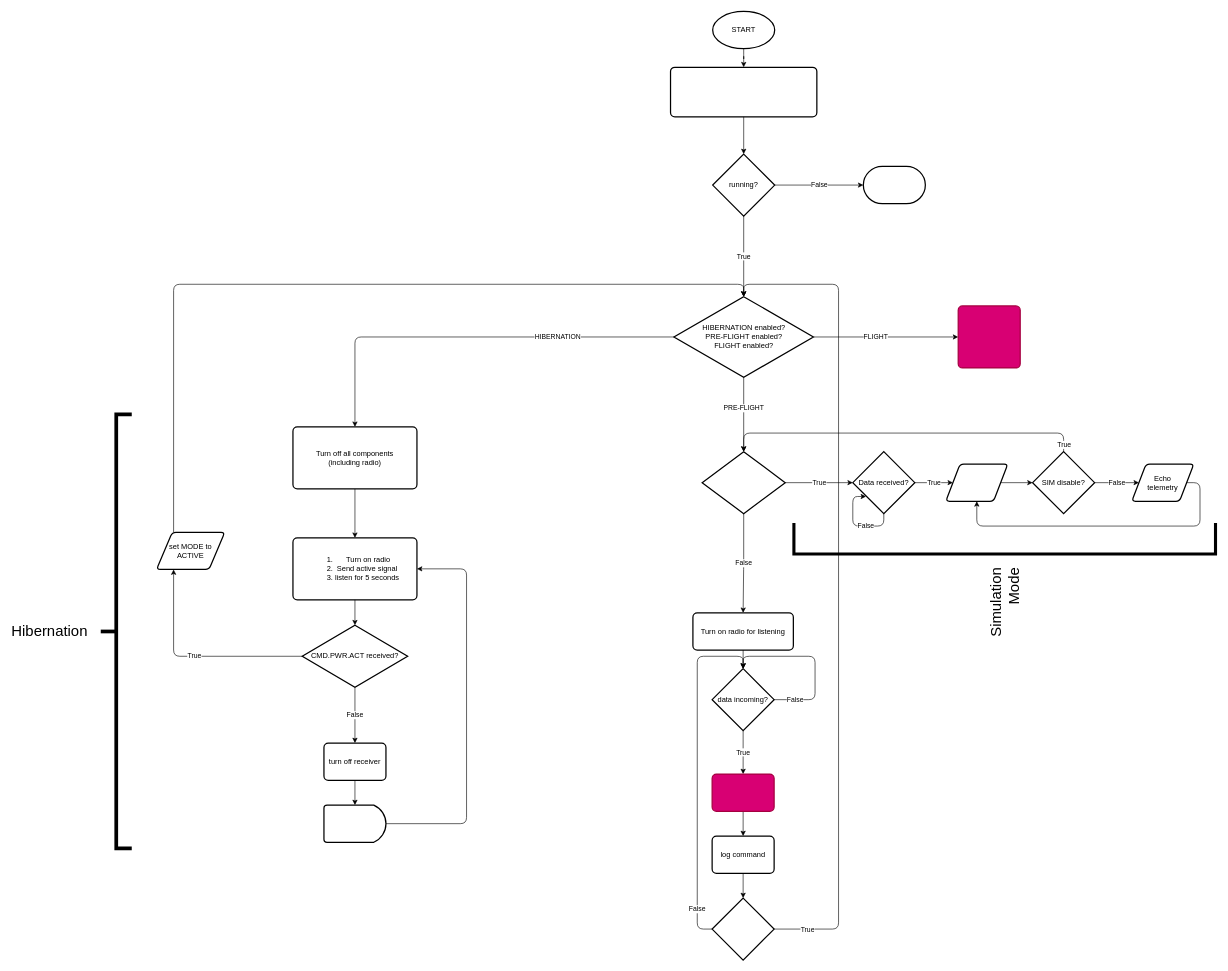
This 1228x971 diagram has some shape labels left out. The shapes that lost their labels are listed below. From the top down, each one's centre as x and y in pixels, then its label:
the point at 743,91: Define pins for each component Set conversion factors Set default state
the point at 894,185: TERMINATE
the point at 989,336: FLIGHT LOGIC
the point at 743,482: SIM active and enabled?
the point at 976,482: Receive telemetry
the point at 742,792: Process command
the point at 354,823: wait 55 seconds
the point at 742,928: is MODE changed?
